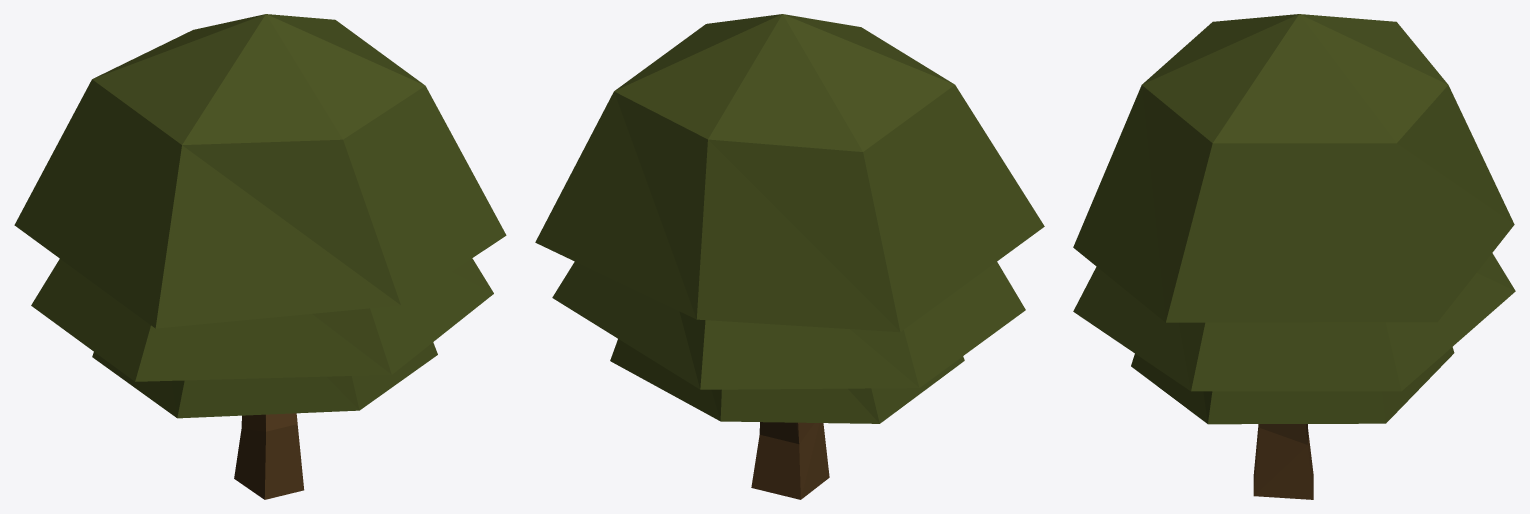
Rendered from oak.obj.
3 views of the same model, side by side, from view 1: azimuth 30°, elevation 25°; view 2: azimuth 150°, elevation 25°; view 3: azimuth 270°, elevation 25° (orthographic). The views are drawn at different scales.
Parts seen in each view (by area): view 1: Object Oak tree 2026-10-08_16-43-52; view 2: Object Oak tree 2026-10-08_16-43-52; view 3: Object Oak tree 2026-10-08_16-43-52.
Boxes of the visible parts, x1,y1,x2,y2 form: Object Oak tree 2026-10-08_16-43-52: (14, 14, 506, 499); Object Oak tree 2026-10-08_16-43-52: (535, 14, 1044, 499); Object Oak tree 2026-10-08_16-43-52: (1073, 14, 1515, 499).
Size of the model in its own units: 353 by 435 by 368.
